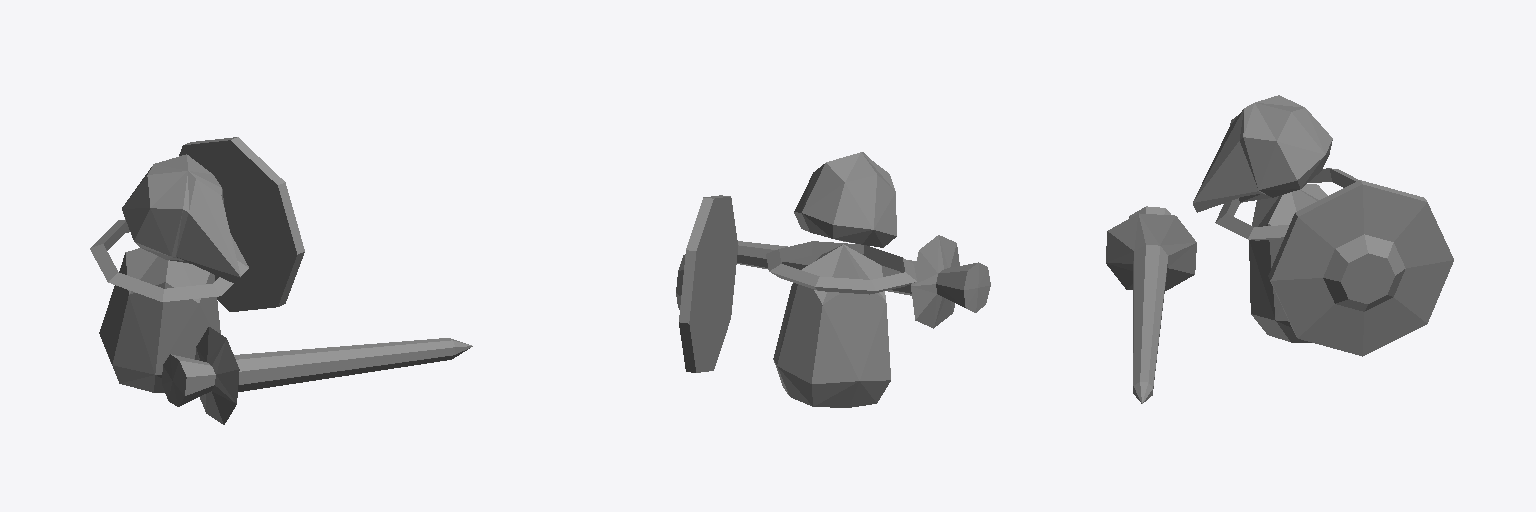
3 views of the same model, side by side, from view 1: azimuth 30°, elevation 25°; view 2: azimuth 150°, elevation 25°; view 3: azimuth 270°, elevation 25° (orthographic).
Parts seen in each view (by area): view 1: meshMinion; view 2: meshMinion; view 3: meshMinion.
Part boxes in pixels (x1,y1,x2,y2): meshMinion: (90, 137, 472, 424); meshMinion: (676, 152, 990, 407); meshMinion: (1106, 95, 1453, 403).
Size of the model in its own units: 136 by 100 by 139.